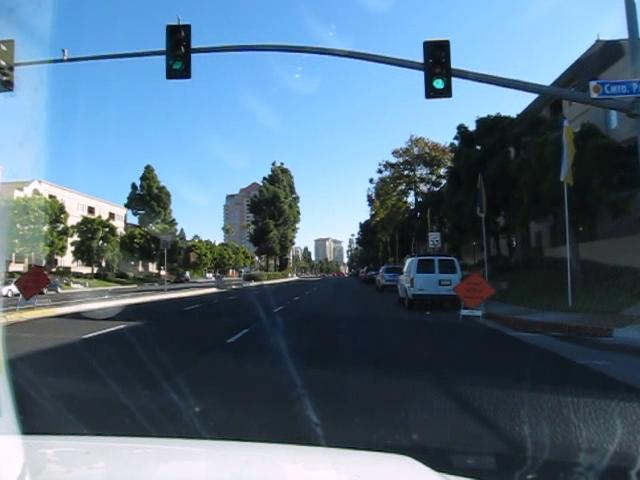speedLimit35: (427, 230, 441, 247)
